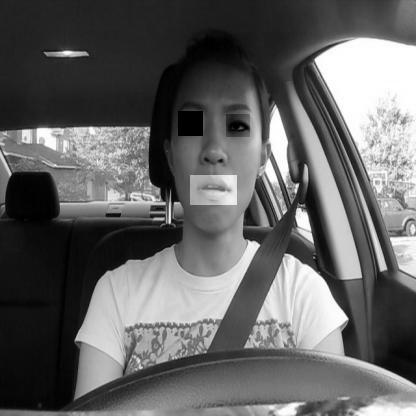seatbelt: (147, 27, 288, 363)
